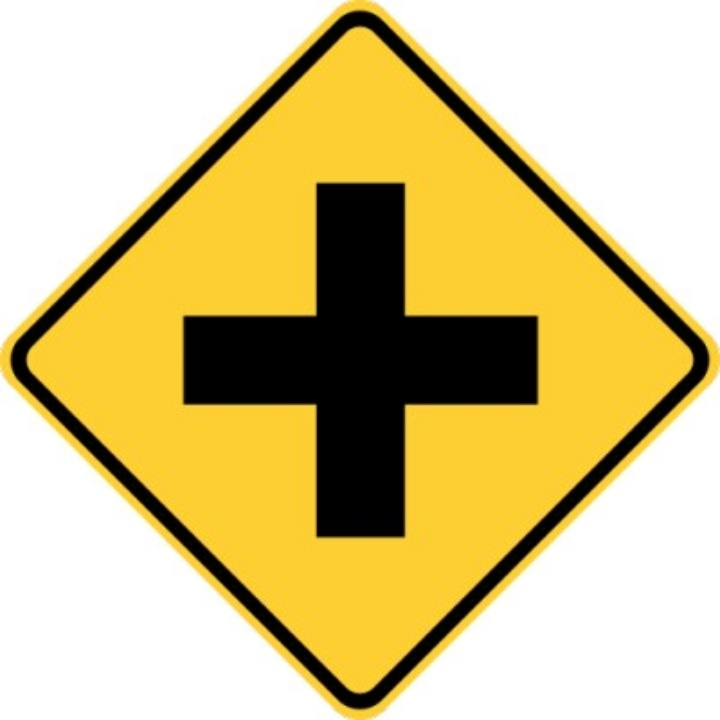inter: (172, 171, 549, 551)
